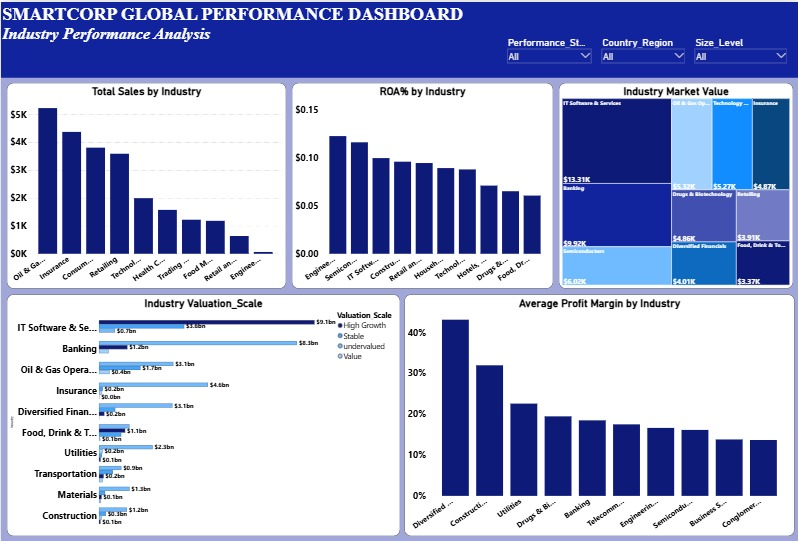

The page's visual inventory and layout, read from the dashboard file:
{"tool":"powerbi","page":{"name":"Industry Performance Analysis","canvas":[3550,2400],"ordinal":1},"visuals":[{"type":"textbox","box":[0,0,3550,336.7],"z":1000},{"type":"clusteredColumnChart","title":"Total Sales by Industry","fields":{"Category":["Sheet11.Industry"],"Y":["Sum(Forbes Companies.Sales_$B)"]},"box":[26.7,360,1240,913.3],"z":2000},{"type":"columnChart","title":"Average Profit Margin by Industry","fields":{"Category":["Sheet11.Industry"],"Y":["Sheet11.Average Profit_Margin(%)"]},"box":[1793.3,1300,1733.3,1073.3],"z":3000},{"type":"treemap","title":"Industry Market Value","fields":{"Group":["Sheet11.Industry"],"Values":["Sum(Sheet11.Market Value_$B)"]},"box":[2480,360,1040,913.3],"z":4000},{"type":"columnChart","title":"ROA% by Industry","fields":{"Category":["Sheet11.Industry"],"Y":["Forbes Companies.ROA%"]},"box":[1293.3,360,1160,913.3],"z":5000},{"type":"slicer","fields":{"Values":["Sheet11.Performance_Status"]},"box":[2236.7,143.3,393.3,193.3],"z":6000},{"type":"slicer","fields":{"Values":["Sheet11.Country_Region"]},"box":[2656.7,143.3,390,193.3],"z":7000},{"type":"slicer","fields":{"Values":["Sheet11.Size_Level"]},"box":[3070,143.3,430,193.3],"z":8000},{"type":"clusteredBarChart","title":"Industry Valuation_Scale","fields":{"Series":["Forbes Companies.Valuation_Scale"],"Y":["Forbes Companies.Total Market Value Display"],"Category":["Forbes Companies.Industry"]},"box":[26.7,1300,1746.7,1073.3],"z":9000}]}

Visuals, with their boxes in screenshot pixels (x1, y1, x2, y2), scaled from the page's 3550x2400 canvas onto the 798x541 screenshot:
textbox: locate(0, 0, 797, 76)
"Total Sales by Industry" clusteredColumnChart: locate(6, 81, 285, 287)
"Average Profit Margin by Industry" columnChart: locate(403, 293, 793, 535)
"Industry Market Value" treemap: locate(557, 81, 791, 287)
"ROA% by Industry" columnChart: locate(291, 81, 551, 287)
slicer - Sheet11.Performance_Status: locate(503, 32, 591, 76)
slicer - Sheet11.Country_Region: locate(597, 32, 685, 76)
slicer - Sheet11.Size_Level: locate(690, 32, 787, 76)
"Industry Valuation_Scale" clusteredBarChart: locate(6, 293, 399, 535)
